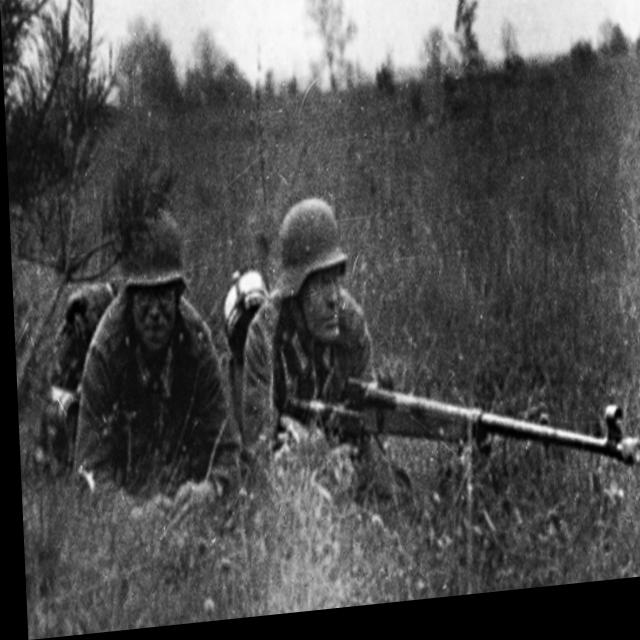other: (63, 203, 225, 523), (245, 181, 378, 471)
